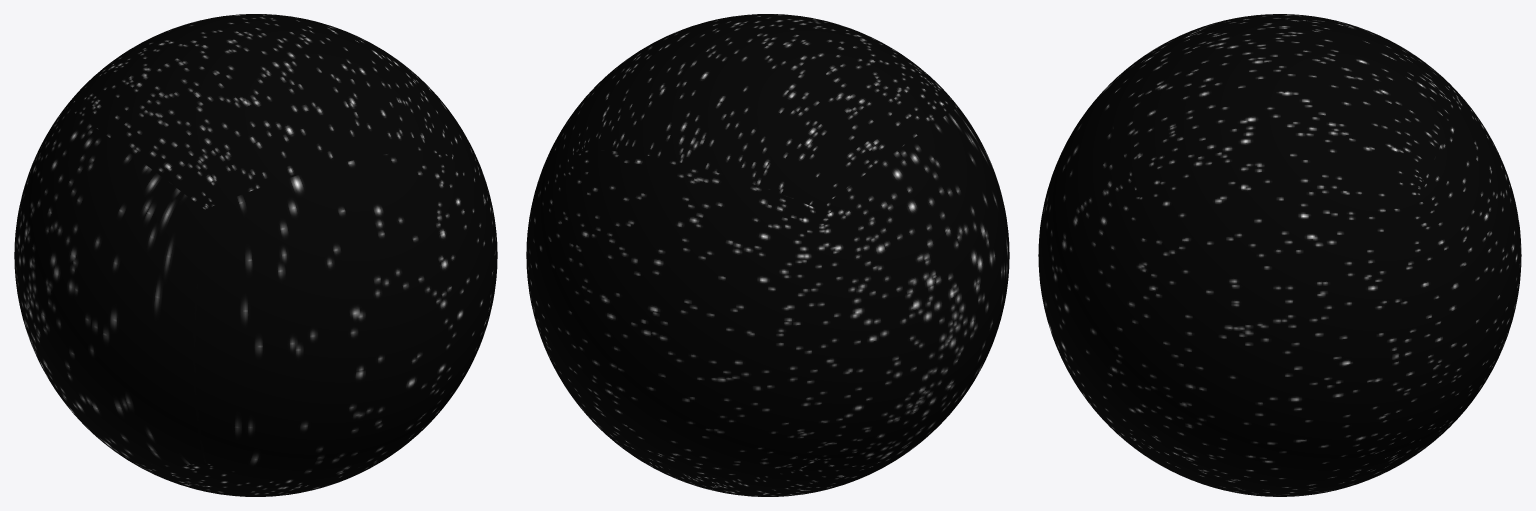
File: skysphere.fbx
3 renders of one model, left to right at view 1: azimuth 30°, elevation 25°; view 2: azimuth 150°, elevation 25°; view 3: azimuth 270°, elevation 25°, orthographic.
Visible parts, largest first — view 1: Cube; view 2: Cube; view 3: Cube.
Part boxes in pixels (x1=…): Cube: x1=14, y1=14, x2=497, y2=496; Cube: x1=526, y1=14, x2=1009, y2=496; Cube: x1=1038, y1=14, x2=1521, y2=496.
Size of the model in its own units: 171 by 171 by 171.
